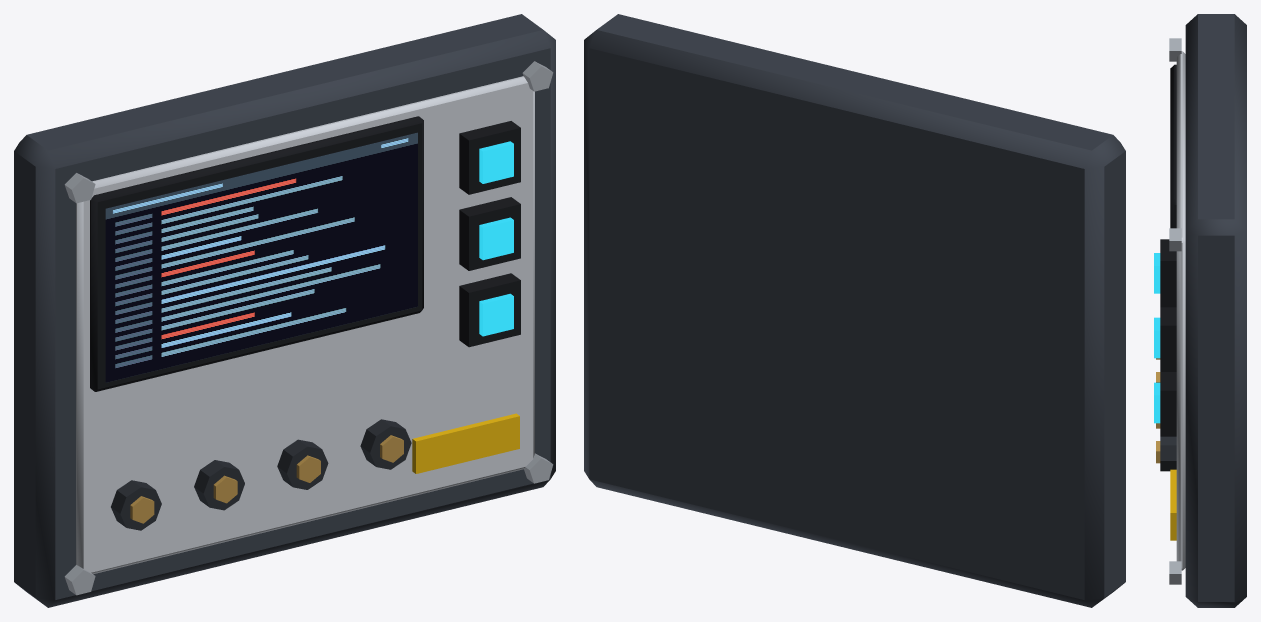
File: junction_diagnostic_port_panel.glb
3 views of the same model, side by side, from view 1: azimuth 30°, elevation 25°; view 2: azimuth 150°, elevation 25°; view 3: azimuth 270°, elevation 25° (orthographic). The views are drawn at different scales.
Parts seen in each view (by area): view 1: junction_diagnostic_port_panel; view 2: junction_diagnostic_port_panel; view 3: junction_diagnostic_port_panel.
Boxes of the visible parts, x1,y1,x2,y2 form: junction_diagnostic_port_panel: [14, 14, 555, 607]; junction_diagnostic_port_panel: [584, 14, 1125, 607]; junction_diagnostic_port_panel: [1154, 14, 1246, 607].
Bounding box in the file's own units: 0.5 × 0.42 × 0.091.
Materials: 9 (1 with a texture image).
